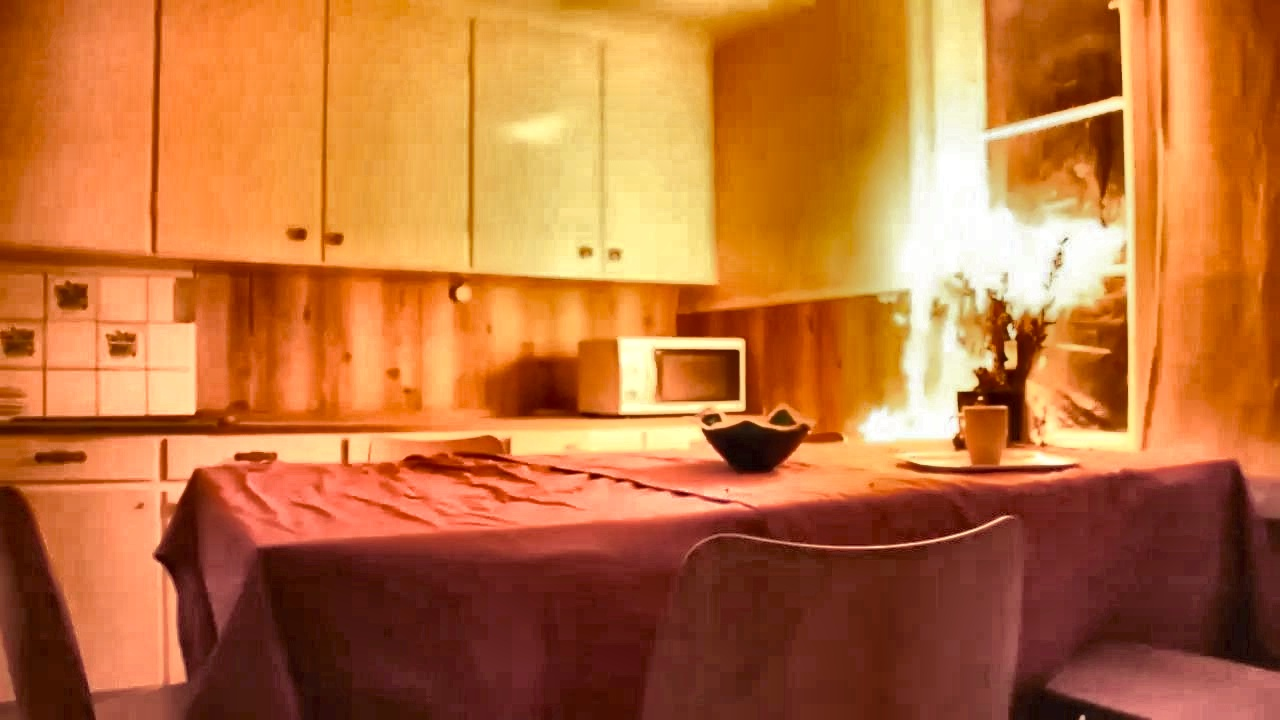fire: (843, 145, 1134, 450)
